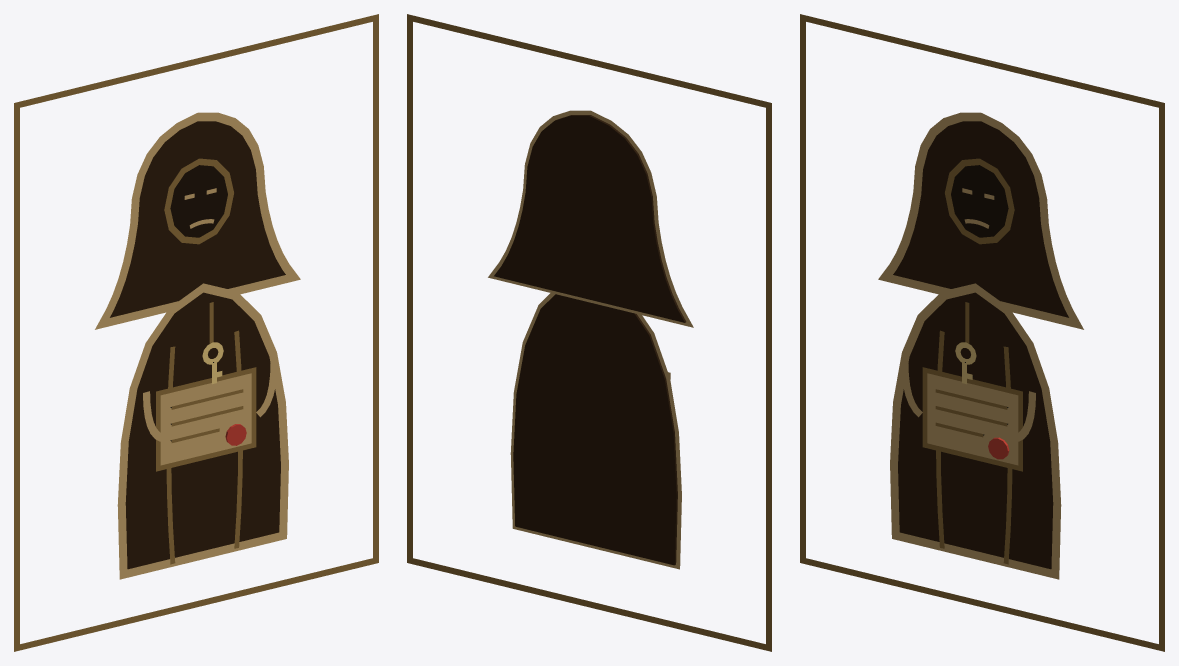
Rendered from npc-vdova.glb.
The picture shows the model from 3 angles, left to right: view 1: azimuth 30°, elevation 25°; view 2: azimuth 150°, elevation 25°; view 3: azimuth 330°, elevation 25°; orthographic projection.
Visible parts, largest first — view 1: npc-vdova; view 2: npc-vdova; view 3: npc-vdova.
Boxes of the visible parts, x1,y1,x2,y2 form: npc-vdova: [14, 14, 378, 651]; npc-vdova: [407, 14, 771, 651]; npc-vdova: [800, 14, 1164, 651].
Bounding box in the file's own units: 1.14 × 1.64 × 0.0979.
